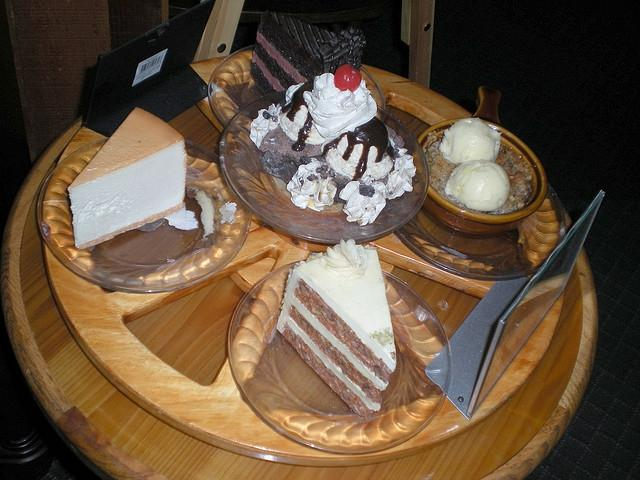cherry: (334, 64, 362, 92)
